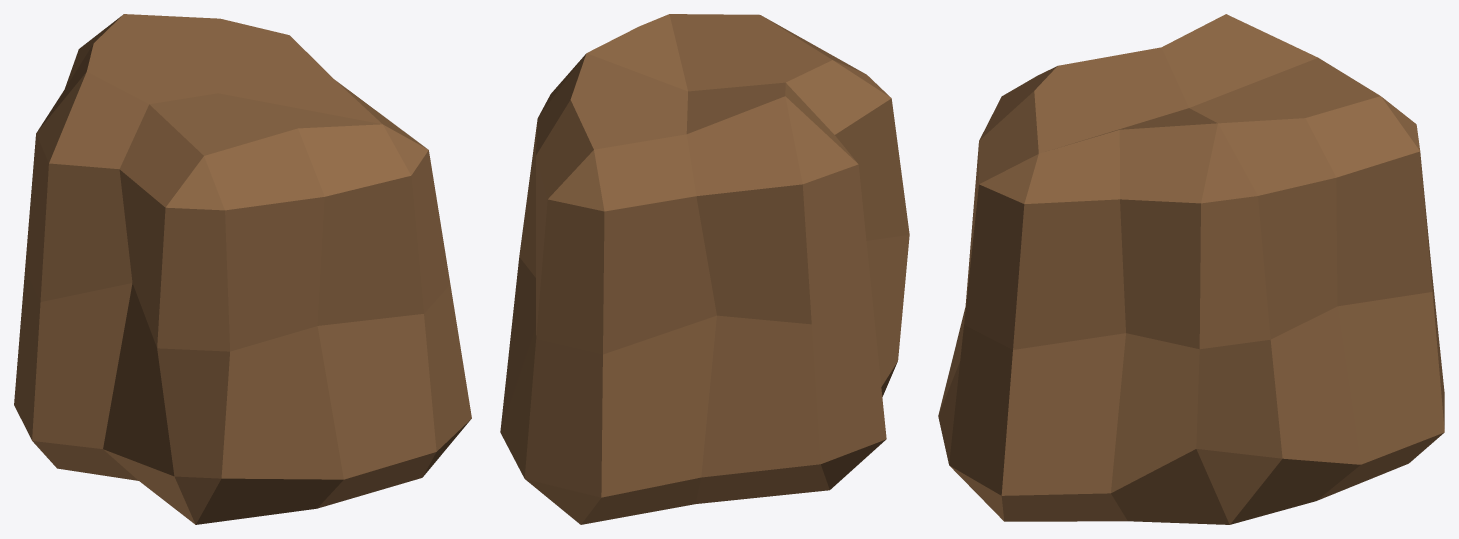
File: Rock_9_Light_Brown.fbx
3 views of the same model, side by side, from view 1: azimuth 30°, elevation 25°; view 2: azimuth 150°, elevation 25°; view 3: azimuth 270°, elevation 25° (orthographic). The views are drawn at different scales.
Parts seen in each view (by area): view 1: Rock_9_Light_Brown; view 2: Rock_9_Light_Brown; view 3: Rock_9_Light_Brown.
Boxes of the visible parts, <box> form: Rock_9_Light_Brown: <box>14,14,471,524</box>; Rock_9_Light_Brown: <box>500,14,909,524</box>; Rock_9_Light_Brown: <box>938,14,1444,524</box>.
Size of the model in its own units: 303 by 314 by 367.
